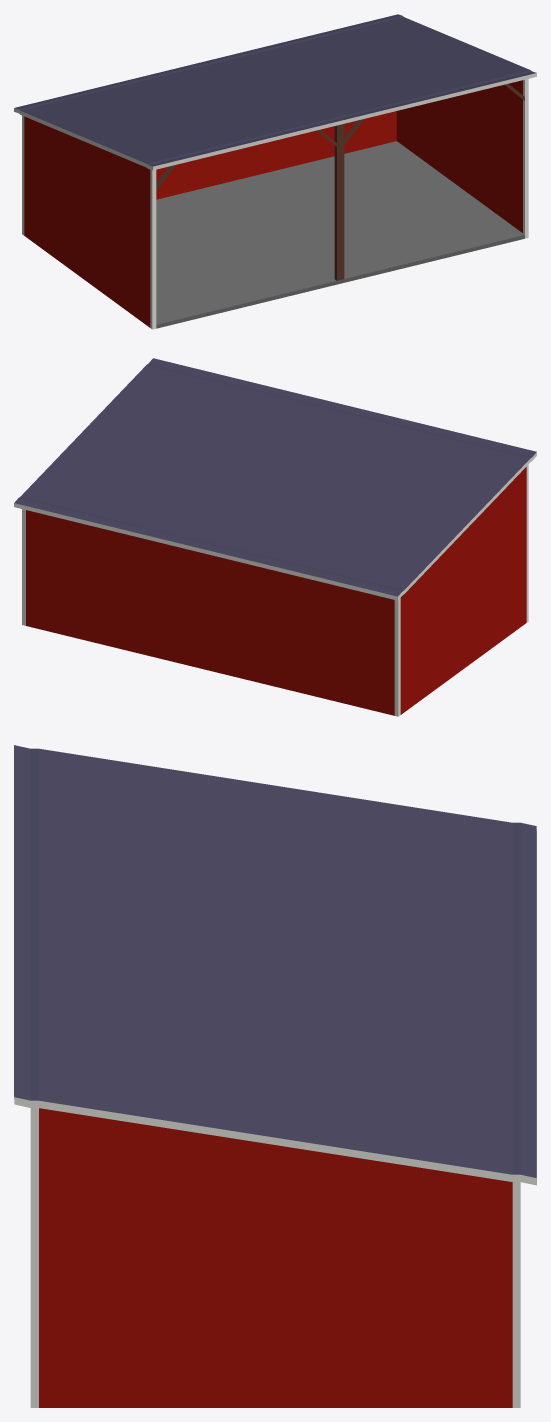
Rendered from Farmi_TraktoriVaja.fbx.
The picture shows the model from 3 angles, top to bottom: view 1: azimuth 30°, elevation 25°; view 2: azimuth 150°, elevation 25°; view 3: azimuth 270°, elevation 25°; orthographic projection. The views are drawn at different scales.
Visible parts, largest first — view 1: Plane; view 2: Plane; view 3: Plane.
Boxes of the visible parts, x1=… form: Plane: x1=14, y1=14, x2=536, y2=329; Plane: x1=14, y1=358, x2=536, y2=716; Plane: x1=14, y1=745, x2=536, y2=1407.
Size of the model in its own units: 1020 by 425 by 640.
